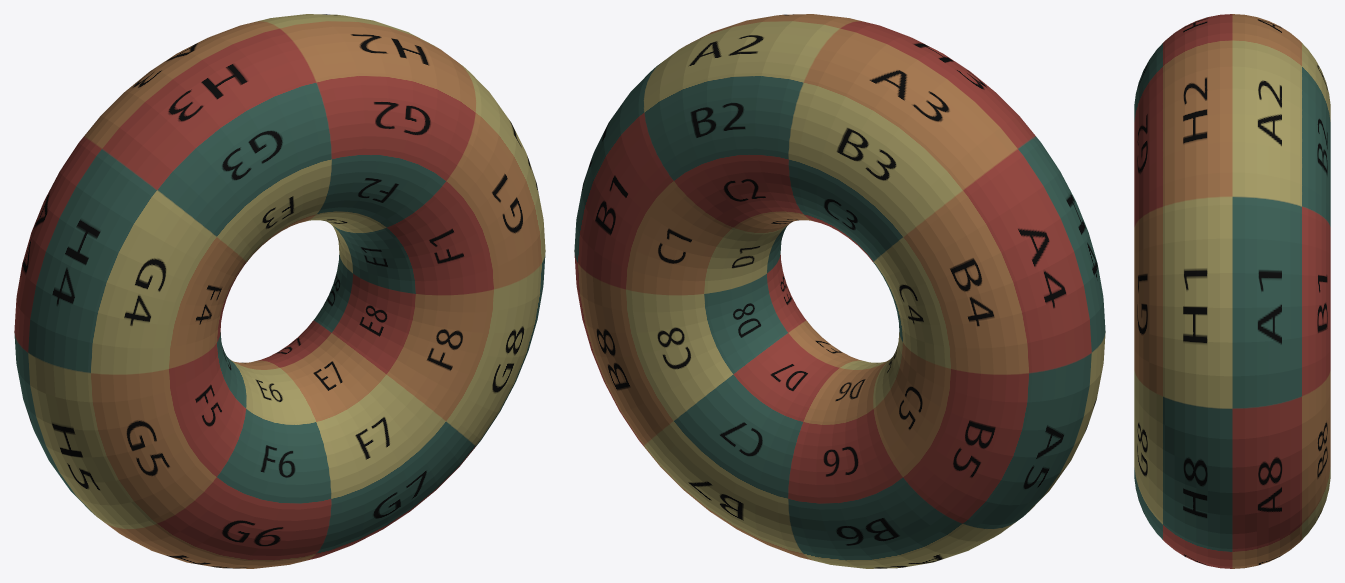
The model's file is texture_torus_R5_r20.glb.
3 views of the same model, side by side, from view 1: azimuth 30°, elevation 25°; view 2: azimuth 150°, elevation 25°; view 3: azimuth 270°, elevation 25° (orthographic). The views are drawn at different scales.
Parts seen in each view (by area): view 1: world; view 2: world; view 3: world.
Part boxes in pixels (x1,y1,x2,y2): world: [14, 14, 545, 568]; world: [574, 14, 1105, 568]; world: [1134, 14, 1330, 568].
Bounding box in the file's own units: 20.67 × 20.63 × 7.32.
1 material, 1 textured.
